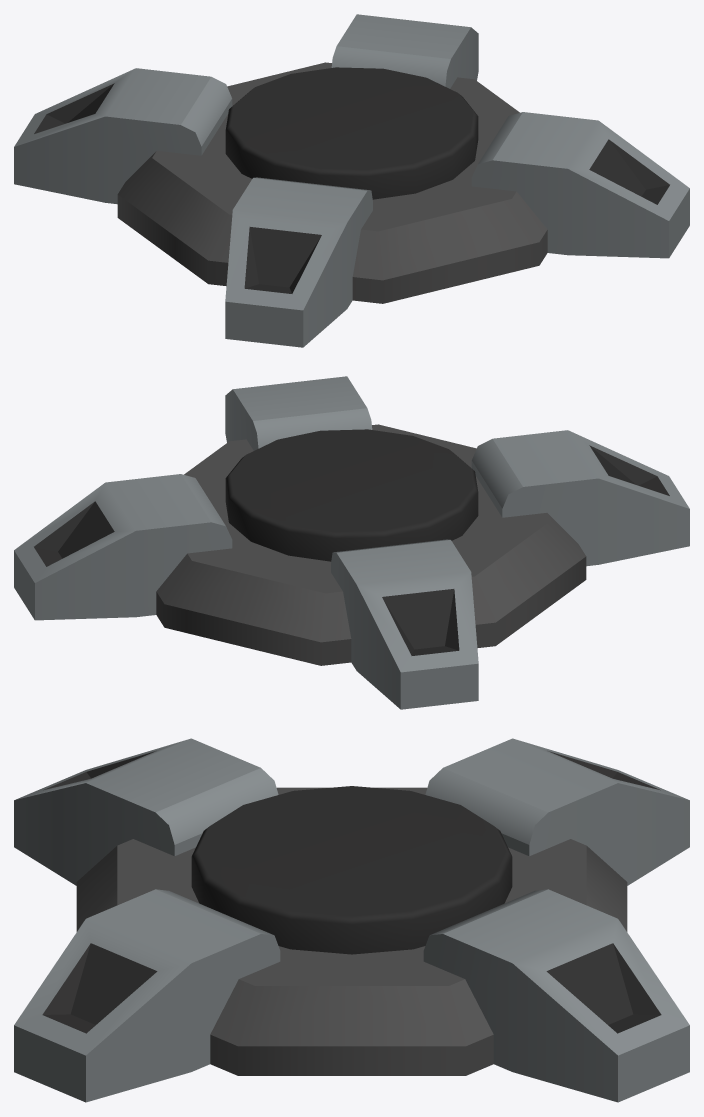
The model's file is Turret_013.fbx.
3 views of the same model, one above another, from view 1: azimuth 30°, elevation 25°; view 2: azimuth 150°, elevation 25°; view 3: azimuth 270°, elevation 25° (orthographic). The views are drawn at different scales.
Visible parts, largest first — view 1: Turret_013; view 2: Turret_013; view 3: Turret_013.
Part boxes in pixels (bbox=[...]): Turret_013: bbox=[14, 14, 689, 347]; Turret_013: bbox=[14, 376, 689, 709]; Turret_013: bbox=[14, 738, 689, 1102].
Bounding box in the file's own units: 211 × 211 × 37.44.
